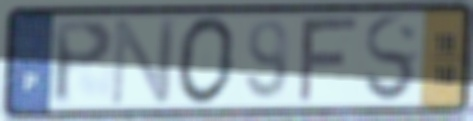9: (243, 18, 292, 104)
F: (294, 13, 362, 106)
N: (108, 15, 181, 109)
O: (175, 14, 239, 108)
P: (52, 16, 117, 108)
S: (361, 12, 420, 106)
